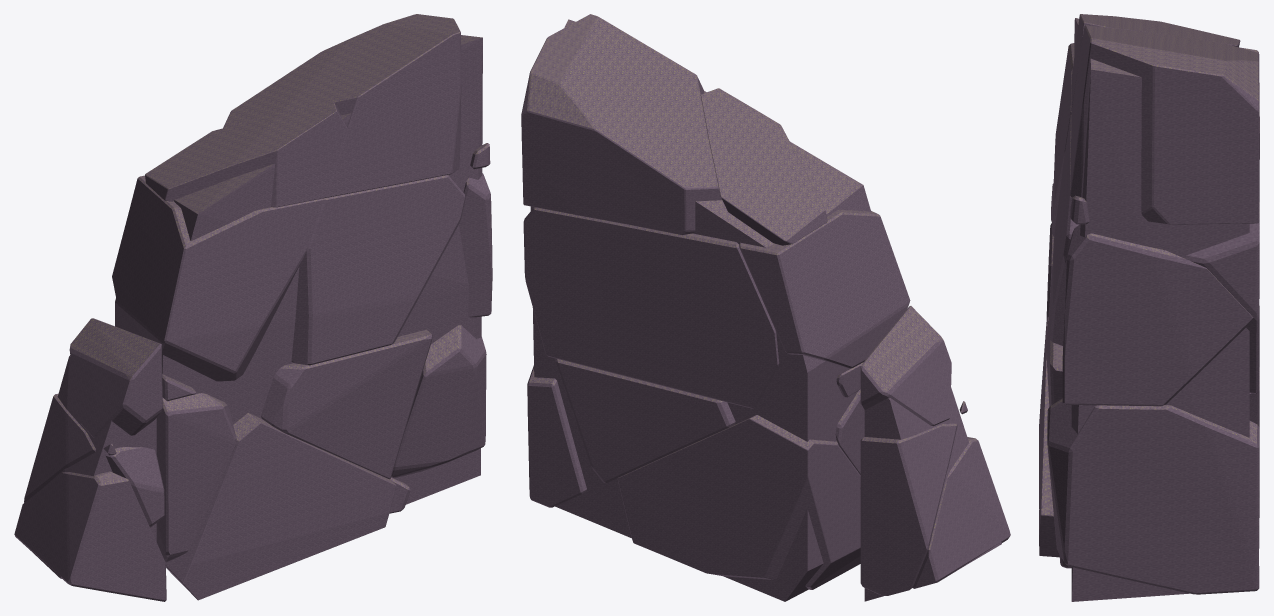
Rendered from A01_Wall_B.fbx.
The picture shows the model from 3 angles, left to right: view 1: azimuth 30°, elevation 25°; view 2: azimuth 150°, elevation 25°; view 3: azimuth 270°, elevation 25°; orthographic projection. The views are drawn at different scales.
Visible parts, largest first — view 1: A01B_slab1_7, A01B_slab1_12, A01B_slab1_2, A01B_slab1_9, A01B_core1, A01B_slab1_3, A01B_wedge0_0, A01B_slab1_11, A01B_slab1_5, A01B_slab1_0, A01B_wedge0_3, A01B_wedge0_1 (+2 smaller); view 2: A01B_slab1_9, A01B_slab1_12, A01B_slab1_2, A01B_core1, A01B_slab1_7, A01B_wedge0_1, A01B_slab1_3, A01B_slab1_11, A01B_wedge0_3, A01B_wedge0_0, A01B_slab1_5, A01B_core0 (+1 smaller); view 3: A01B_slab1_5, A01B_slab1_12, A01B_slab1_10, A01B_core1, A01B_slab1_9, A01B_slab1_2, A01B_slab1_11, A01B_slab1_7, A01B_slab1_3, A01B_slab1_13, A01B_slab1_0.
Part boxes in pixels (x1,y1,x2,y2): A01B_slab1_7: (112,175,323,381); A01B_slab1_12: (223,14,461,197); A01B_slab1_2: (165,413,396,600); A01B_slab1_9: (291,175,465,365); A01B_core1: (115,35,482,504); A01B_slab1_3: (261,329,432,479); A01B_wedge0_0: (14,471,166,601); A01B_slab1_11: (145,102,347,207); A01B_slab1_5: (391,325,486,477); A01B_slab1_0: (156,393,236,562); A01B_wedge0_3: (69,318,162,437); A01B_wedge0_1: (24,393,164,527); A01B_slab1_9: (523,207,779,408); A01B_slab1_12: (521,14,721,235); A01B_slab1_2: (617,415,860,589); A01B_core1: (530,19,870,601); A01B_slab1_7: (739,209,910,368); A01B_wedge0_1: (860,423,957,595); A01B_slab1_3: (554,358,735,483); A01B_slab1_11: (700,88,827,245); A01B_wedge0_3: (860,306,951,426); A01B_wedge0_0: (912,437,1010,588); A01B_slab1_5: (527,365,586,507); A01B_core0: (864,387,1001,601); A01B_slab1_5: (1047,398,1259,594); A01B_slab1_12: (1070,25,1259,224); A01B_slab1_10: (1062,224,1253,406); A01B_core1: (1071,18,1249,601); A01B_slab1_9: (1050,83,1259,393); A01B_slab1_2: (1039,306,1259,557); A01B_slab1_11: (1071,14,1240,110); A01B_slab1_7: (1052,43,1258,236); A01B_slab1_3: (1046,294,1259,497); A01B_slab1_13: (1070,195,1089,224); A01B_slab1_0: (1046,223,1054,318).
Bounding box in the file's own units: 13.02 × 13.93 × 4.59.
